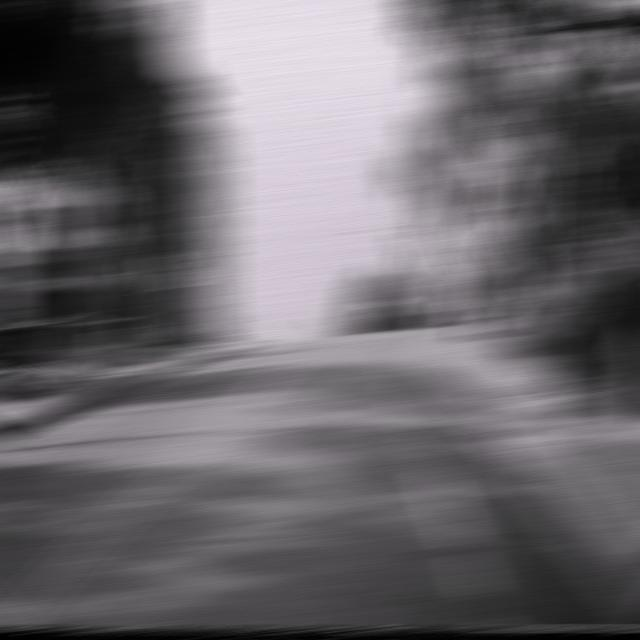stop_sign: (460, 242, 492, 268)
